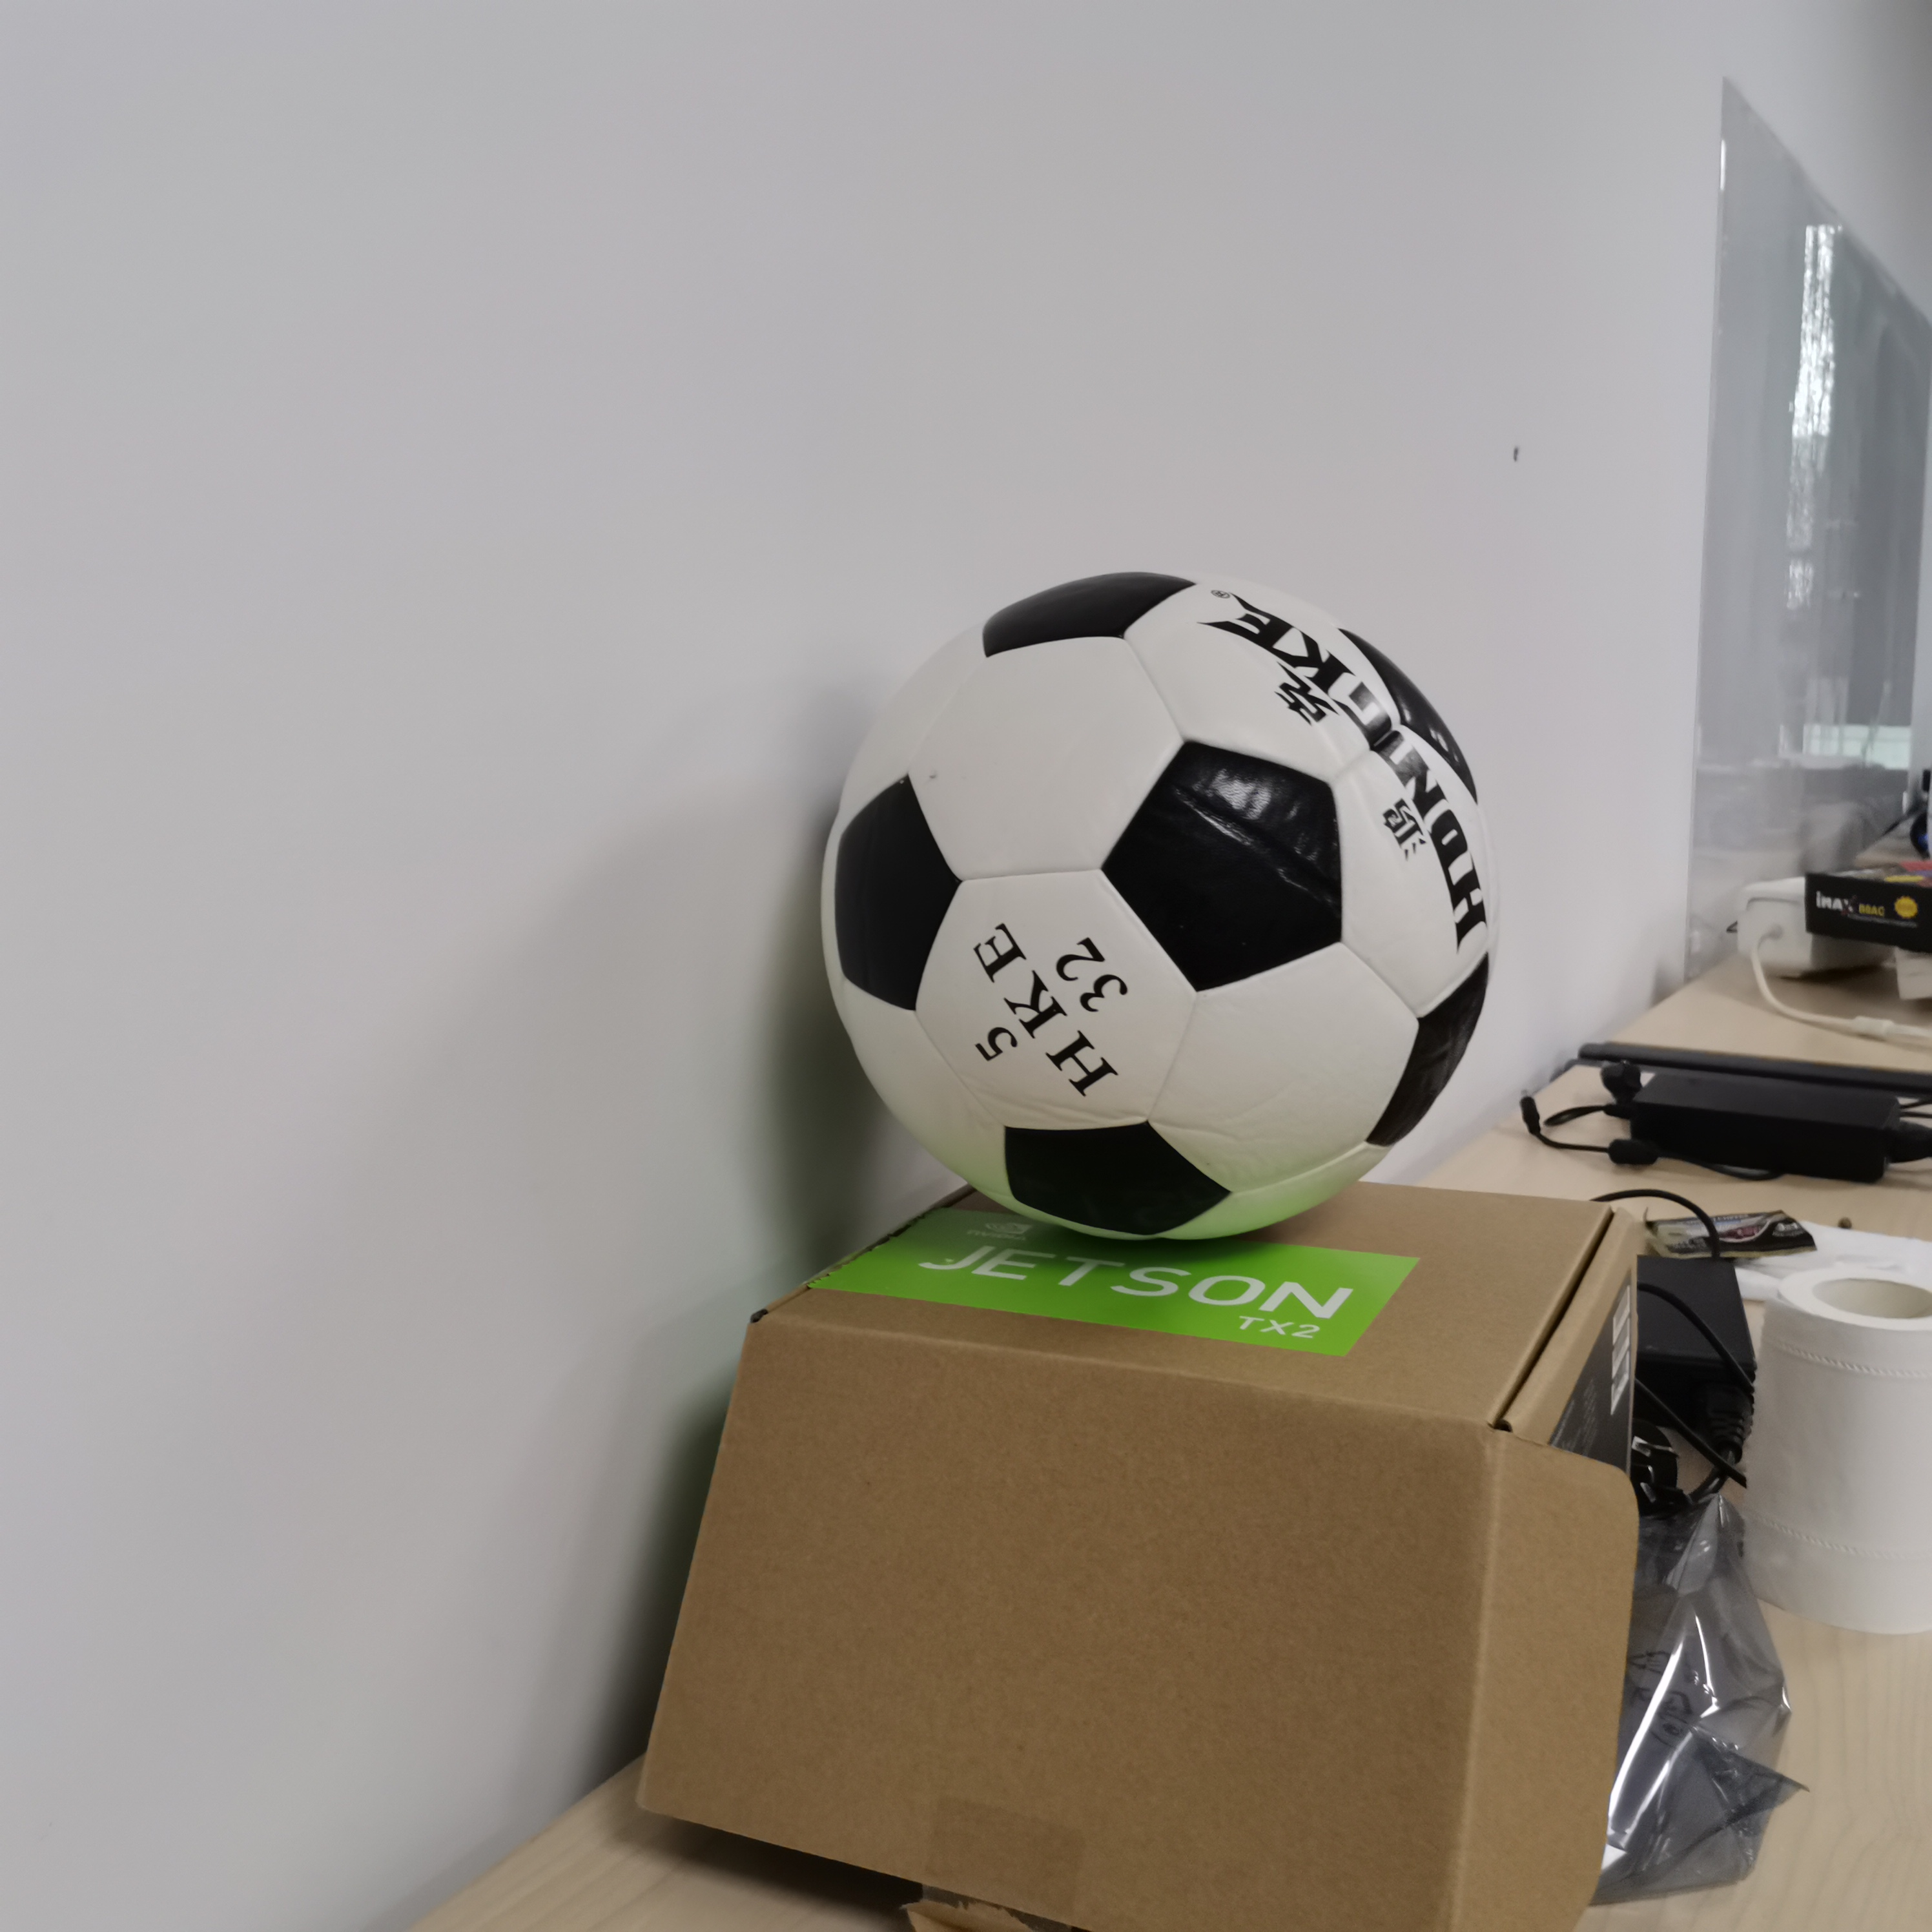football: (816, 579, 1499, 1251)
